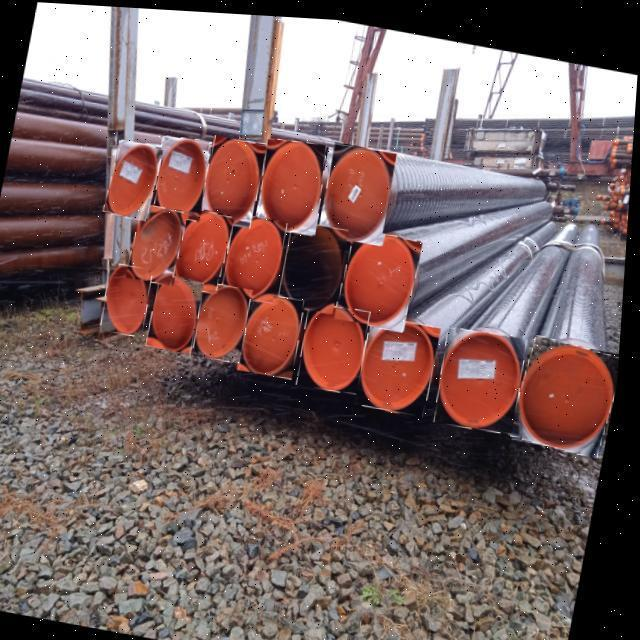pipe: (513, 328, 623, 450), (439, 321, 530, 428), (338, 223, 425, 327), (359, 311, 444, 411), (321, 139, 398, 240), (280, 217, 351, 309), (301, 299, 373, 389), (260, 135, 327, 230), (199, 132, 268, 224), (224, 210, 289, 299), (172, 204, 237, 291), (243, 289, 308, 374), (130, 202, 190, 283), (105, 138, 165, 219), (197, 280, 255, 360), (156, 134, 211, 218), (150, 272, 207, 351), (106, 262, 156, 335)
